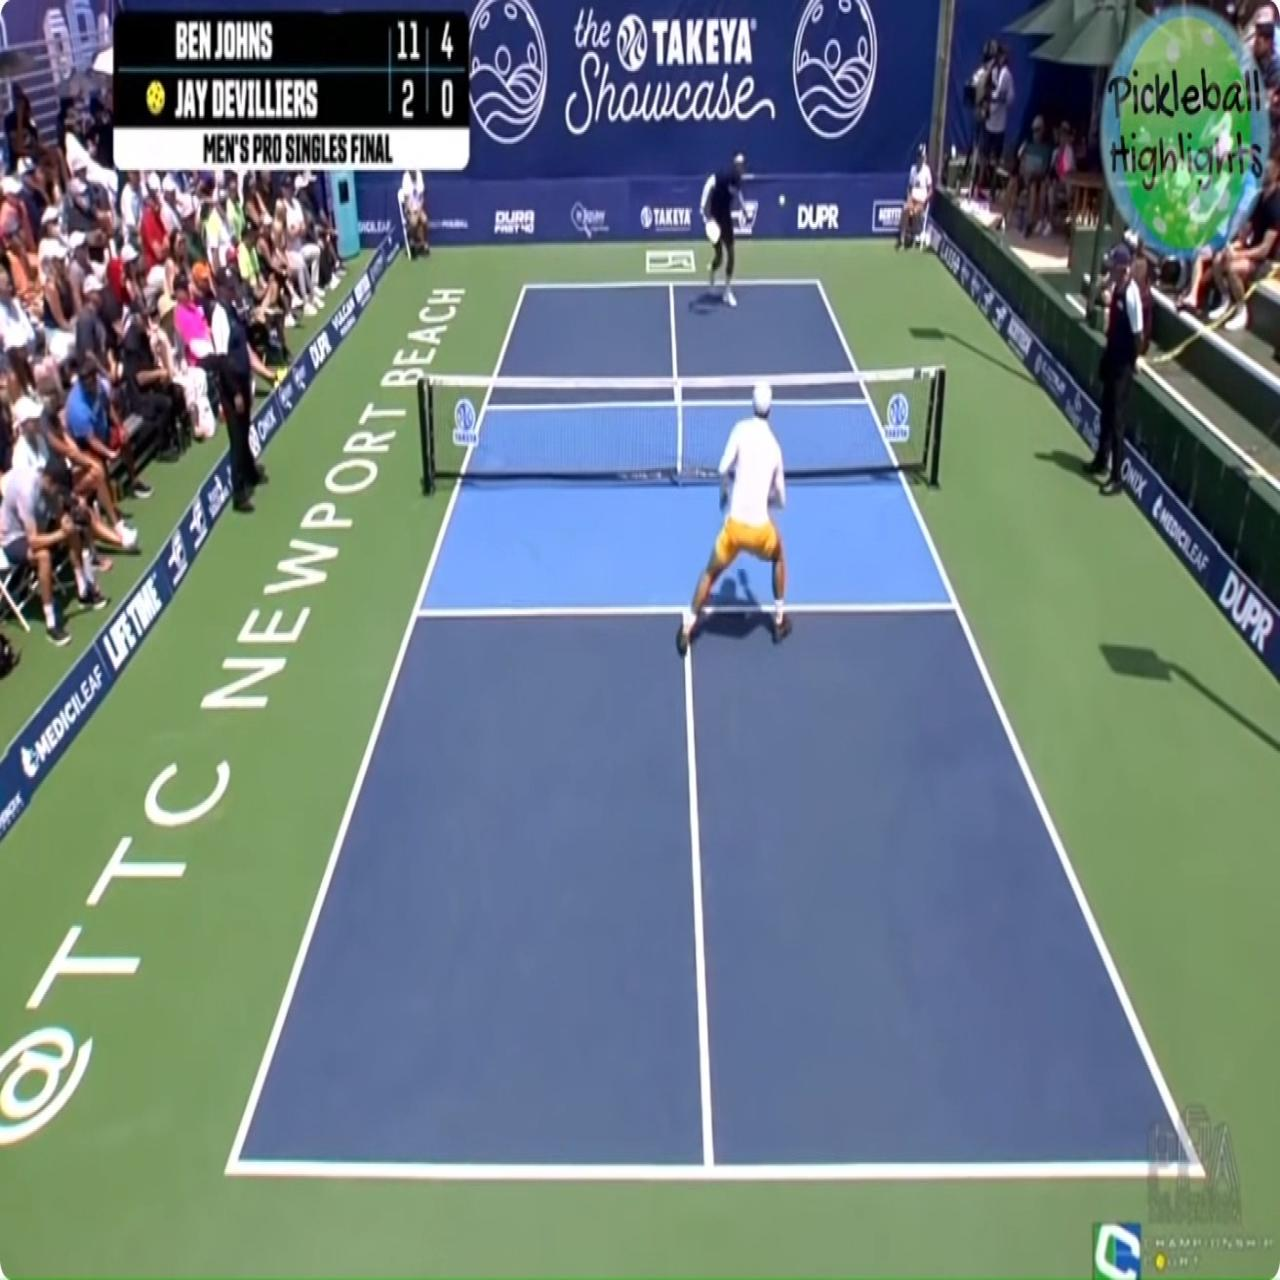pickleball: (778, 193, 785, 207)
